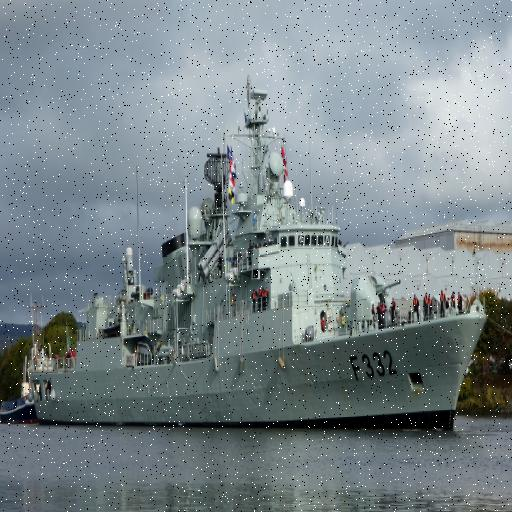Fragata: (25, 74, 492, 438)
